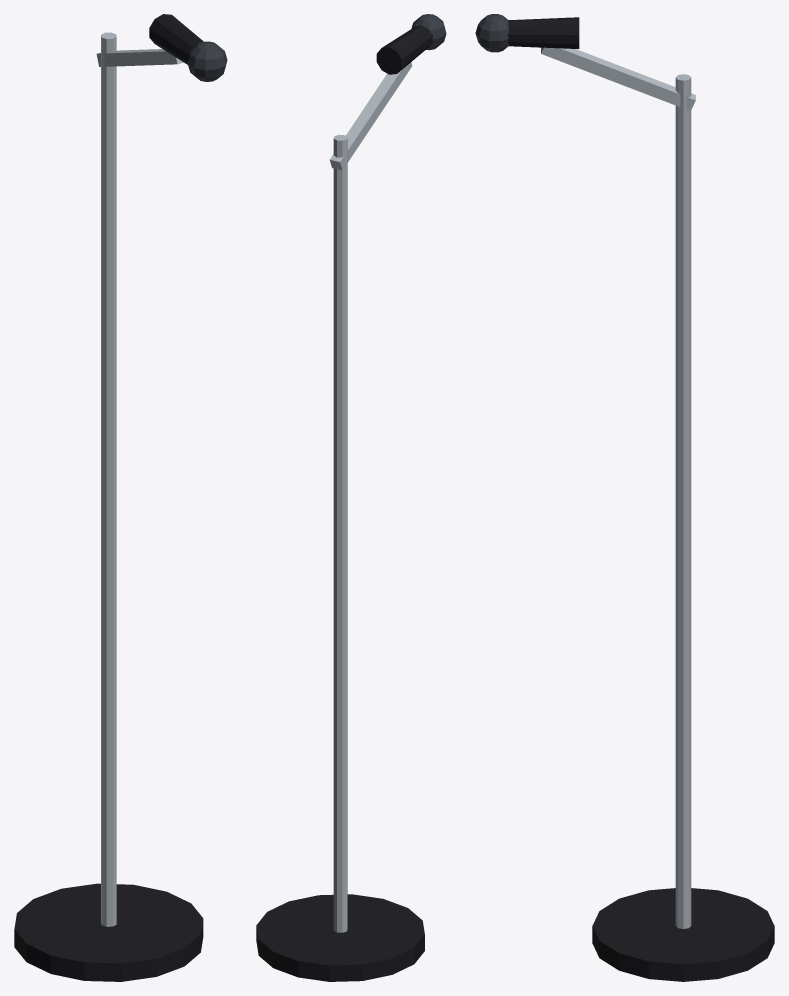
The model's file is mic_stand.fbx.
The picture shows the model from 3 angles, left to right: view 1: azimuth 30°, elevation 25°; view 2: azimuth 150°, elevation 25°; view 3: azimuth 270°, elevation 25°; orthographic projection. The views are drawn at different scales.
Parts seen in each view (by area): view 1: mic_stand; view 2: mic_stand; view 3: mic_stand.
Part boxes in pixels (bbox=[...]): mic_stand: bbox=[14, 14, 227, 981]; mic_stand: bbox=[256, 14, 446, 981]; mic_stand: bbox=[475, 14, 774, 981].
Size of the model in its own units: 0.28 by 1.57 by 0.46.
1 material, 1 textured.
